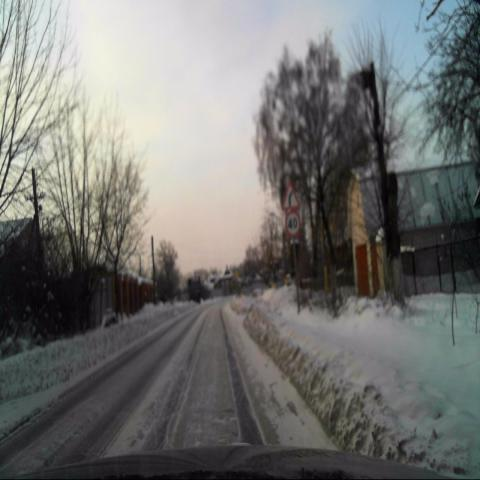1_11: (281, 182, 300, 211)
